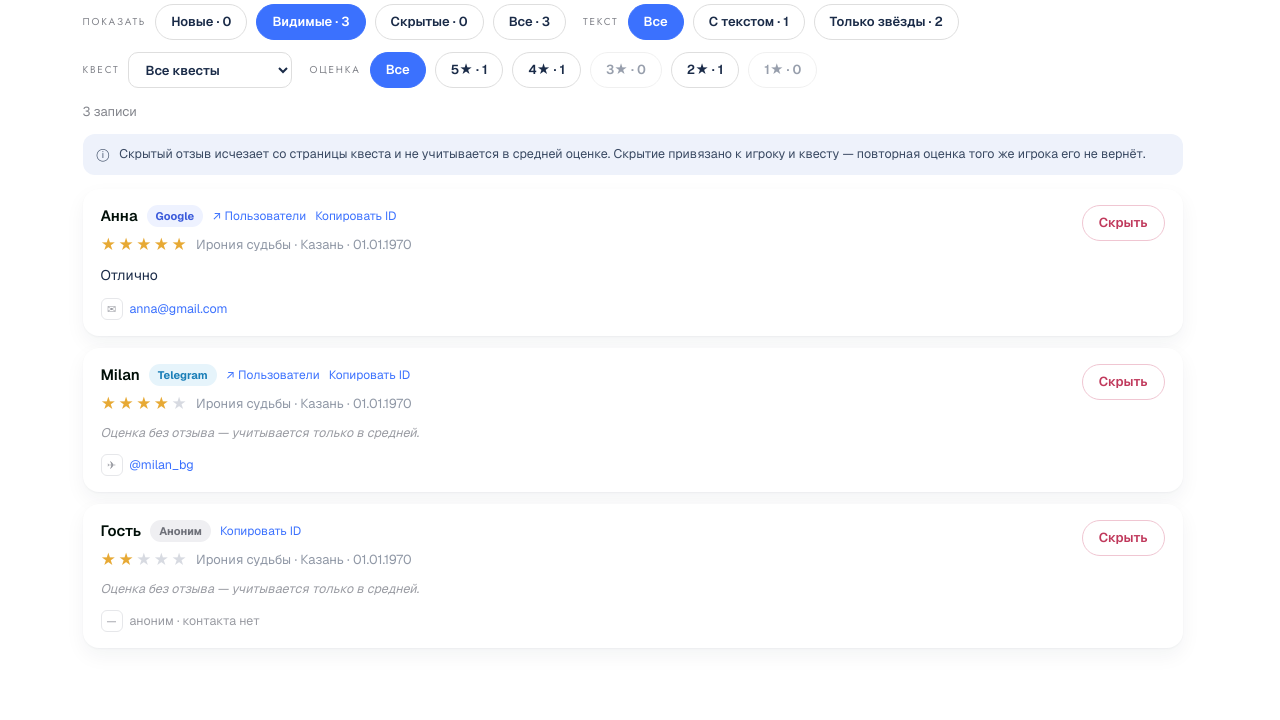
Test: AdminReviewsPage › links account holders to Пользователи and copies any author id
(page scrolled)
Expected: the text "Отлично" is shown, [100,266,158,284]
Click the button "Копировать ID" in the row of "Гость" at {"x": 261, "y": 531}, box [220,521,301,541]
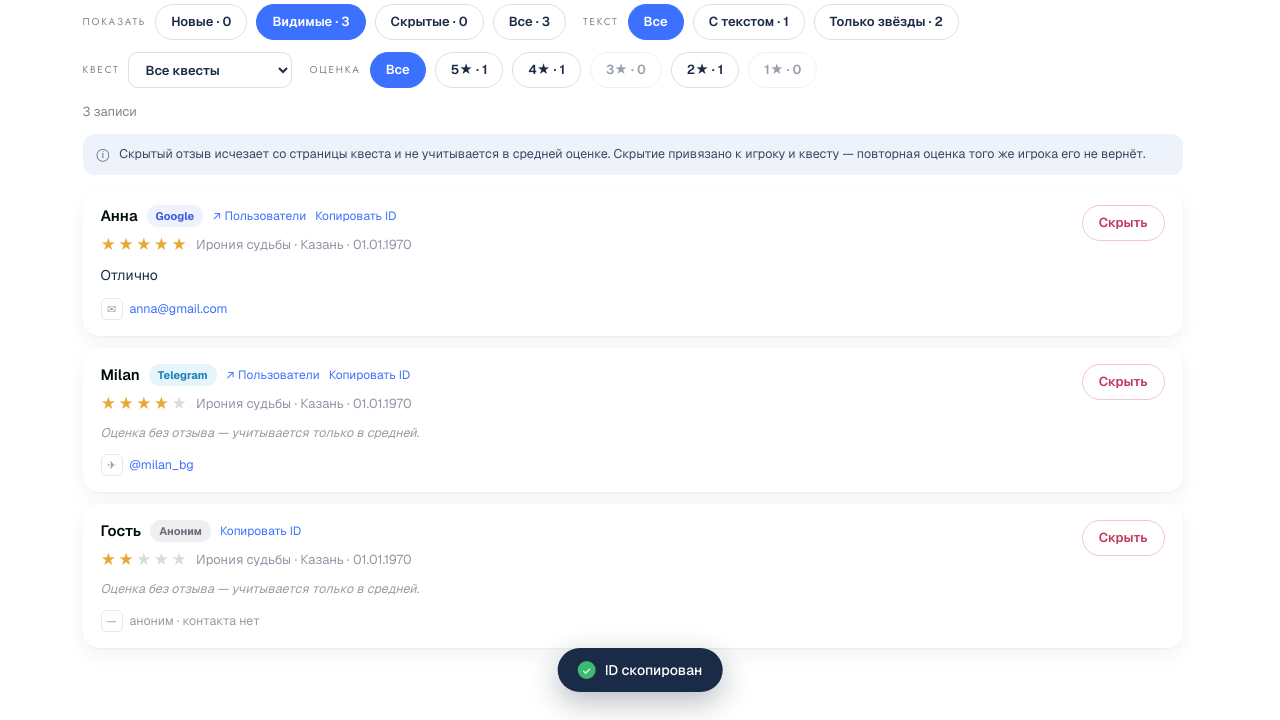
Result: the text "ID скопирован" is shown at [605,661,702,679]
